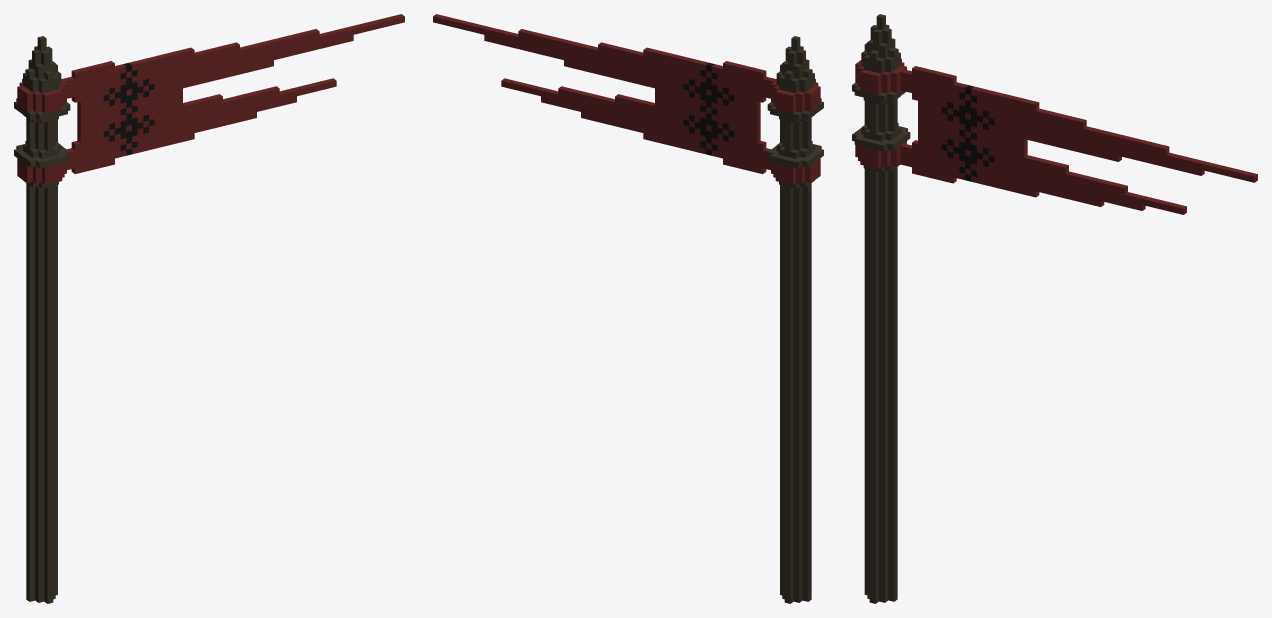
File: Drapeaux1.fbx
The picture shows the model from 3 angles, left to right: view 1: azimuth 30°, elevation 25°; view 2: azimuth 150°, elevation 25°; view 3: azimuth 330°, elevation 25°; orthographic projection. The views are drawn at different scales.
Parts seen in each view (by area): view 1: Drapeaux_01:Mesh; view 2: Drapeaux_01:Mesh; view 3: Drapeaux_01:Mesh.
Boxes of the visible parts, x1,y1,x2,y2 form: Drapeaux_01:Mesh: (14, 14, 404, 603); Drapeaux_01:Mesh: (433, 14, 823, 603); Drapeaux_01:Mesh: (852, 14, 1257, 603).
Bounding box in the file's own units: 67 × 94 × 7.
